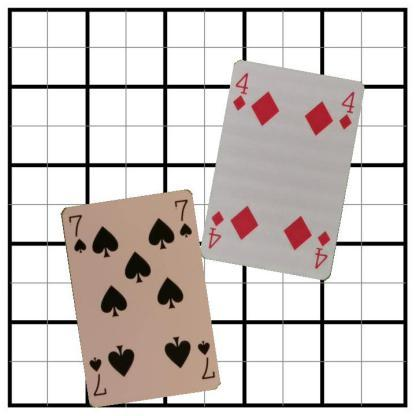4d: (312, 228, 332, 271), (230, 70, 249, 112)
7s: (194, 337, 216, 381), (66, 212, 88, 254)
